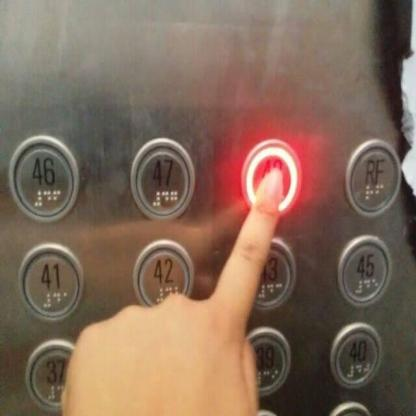39: (237, 323, 292, 396)
40: (326, 319, 383, 390)
41: (14, 239, 84, 325)
42: (129, 236, 195, 310)
45: (334, 232, 392, 310)
46: (6, 132, 81, 224)
47: (127, 134, 197, 224)
RF: (341, 135, 402, 219)
